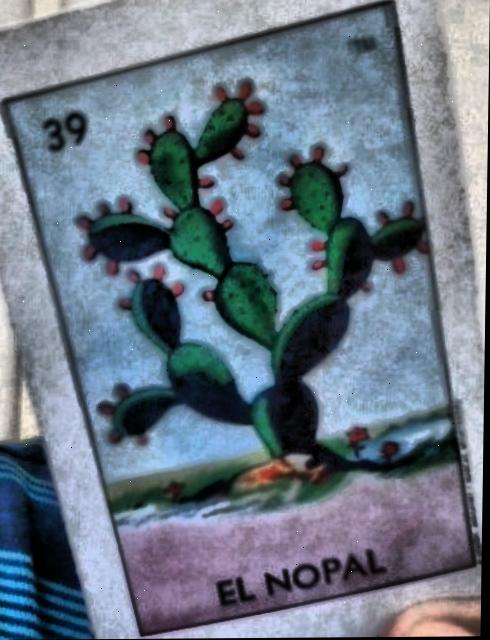El Nopal: (7, 3, 476, 635)
